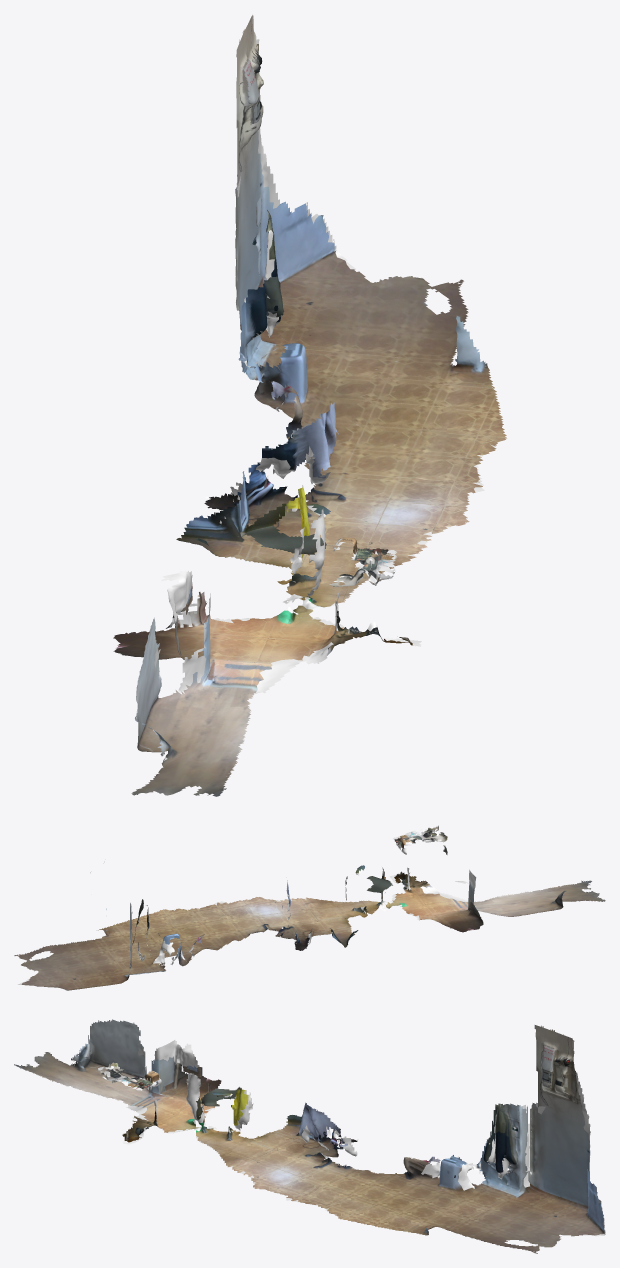
The picture shows the model from 3 angles, top to bottom: view 1: azimuth 30°, elevation 25°; view 2: azimuth 150°, elevation 25°; view 3: azimuth 270°, elevation 25°; orthographic projection. The views are drawn at different scales.
Visible parts, largest first — view 1: texture_1, texture_2, texture_0, object 1, texture_3; view 2: texture_1, texture_2, texture_3, object 1, texture_0; view 3: texture_1, texture_0, texture_2, object 1, texture_3.
Part boxes in pixels (bbox=[...]): texture_1: bbox=[204, 269, 506, 555]; texture_2: bbox=[113, 533, 412, 796]; texture_0: bbox=[235, 15, 364, 348]; object 1: bbox=[154, 15, 495, 760]; texture_3: bbox=[176, 479, 416, 607]; texture_1: bbox=[14, 880, 320, 979]; texture_2: bbox=[366, 826, 605, 932]; texture_3: bbox=[284, 865, 383, 947]; object 1: bbox=[18, 825, 476, 984]; texture_0: bbox=[21, 872, 149, 990]; texture_1: bbox=[232, 1102, 582, 1253]; texture_0: bbox=[487, 1025, 604, 1235]; texture_2: bbox=[14, 1019, 234, 1142]; object 1: bbox=[74, 1040, 605, 1247]; texture_3: bbox=[196, 1087, 341, 1166].
Bounding box in the file's own units: 6.34 × 2.47 × 7.48.
5 materials, 4 textured.
